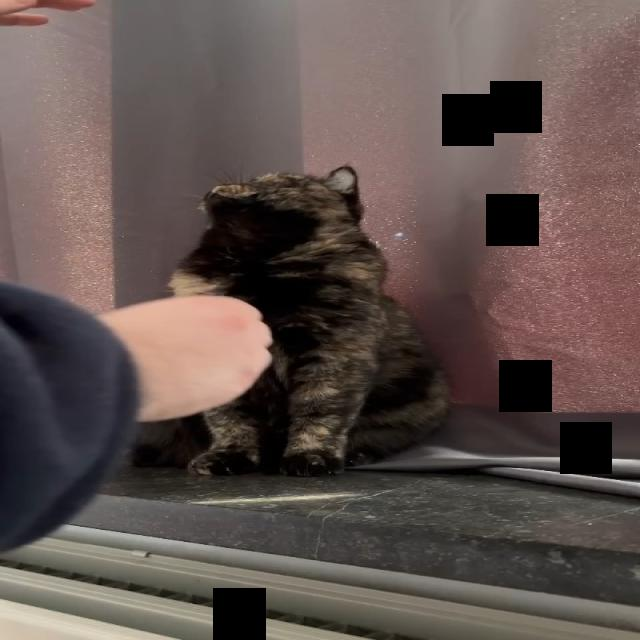authorized: (137, 165, 452, 477)
